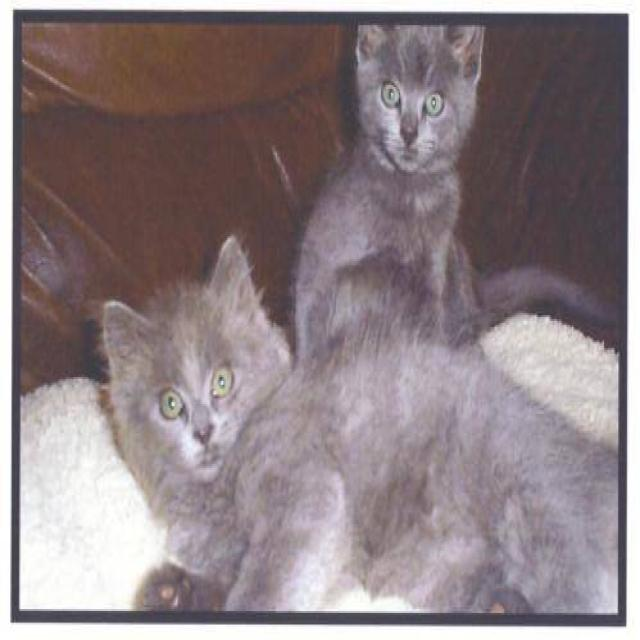cat: (98, 232, 618, 613), (290, 22, 618, 366)
